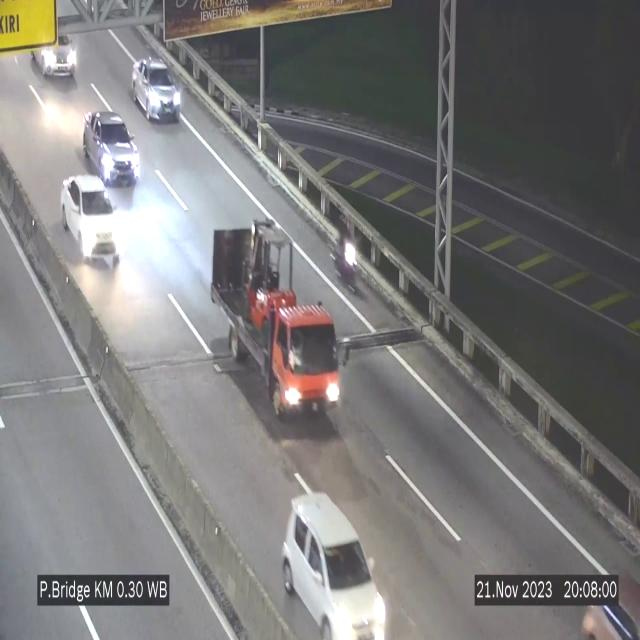Car: (282, 493, 387, 640), (61, 175, 120, 265), (83, 111, 139, 185), (31, 19, 81, 93), (130, 57, 182, 119)
Motorcycle: (335, 217, 361, 292)
Truck: (211, 218, 343, 420)
